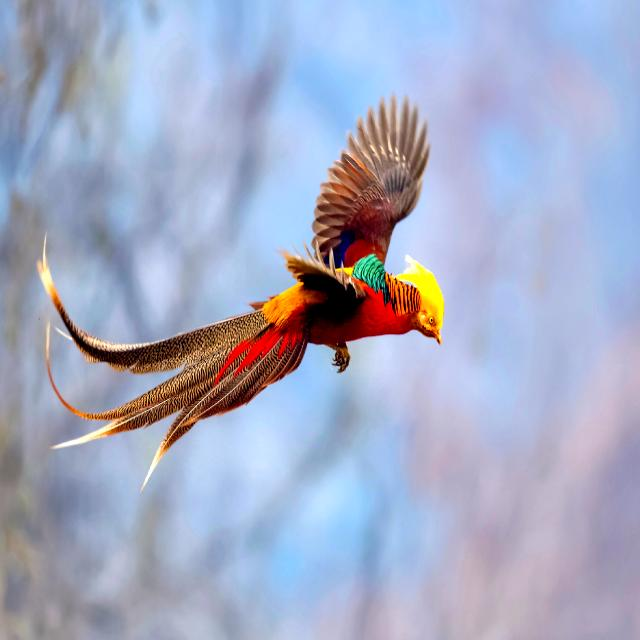Chrysolophus pictus feather: (45, 281, 307, 453)
